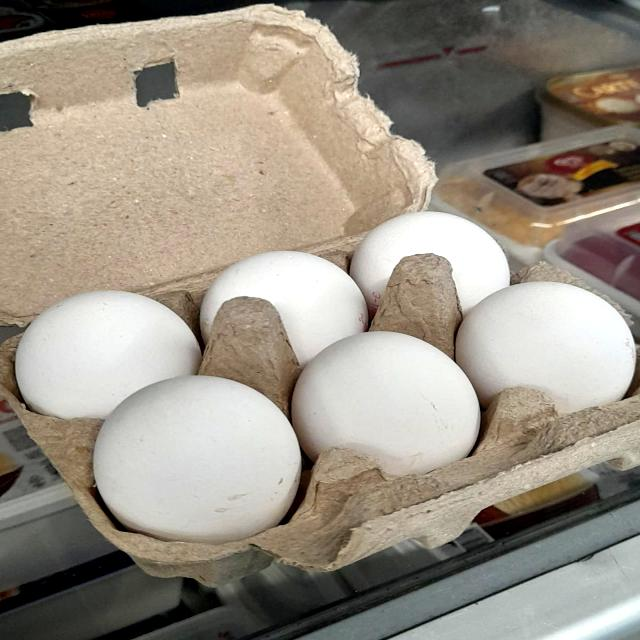egg: (90, 365, 306, 569), (293, 326, 483, 493), (449, 280, 639, 425)
